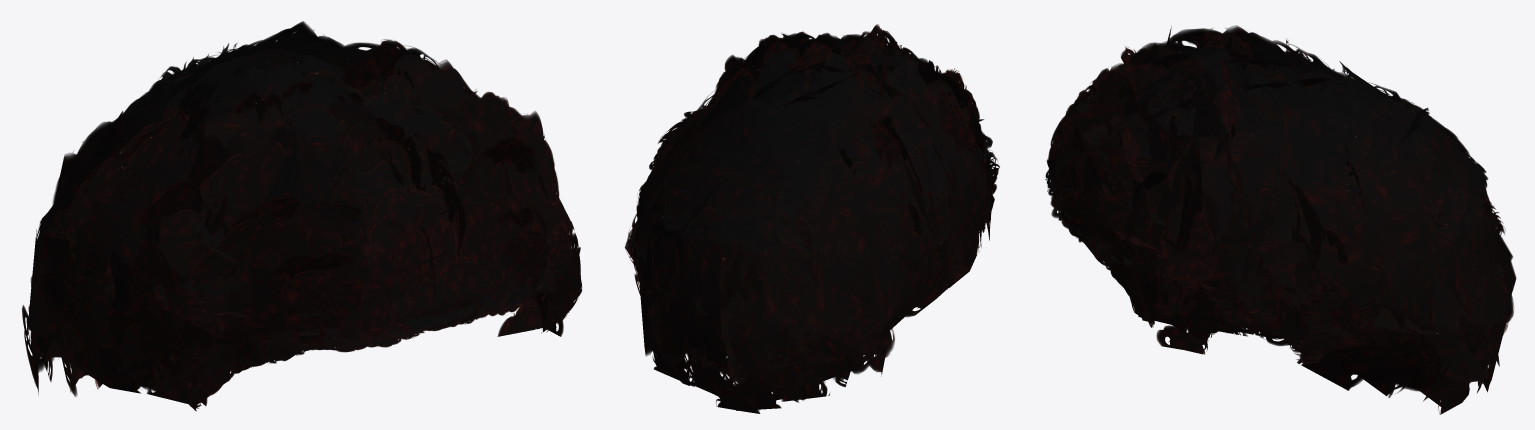
File: Round_Curly_TaperFade.glb
3 views of the same model, side by side, from view 1: azimuth 30°, elevation 25°; view 2: azimuth 150°, elevation 25°; view 3: azimuth 270°, elevation 25° (orthographic). The views are drawn at different scales.
Visible parts, largest first — view 1: SKEL_ROOT; view 2: SKEL_ROOT; view 3: SKEL_ROOT.
Boxes of the visible parts, box(x1,y1,x2,y2) form: SKEL_ROOT: box(22, 21, 582, 411); SKEL_ROOT: box(624, 24, 999, 413); SKEL_ROOT: box(1045, 25, 1516, 414).
Size of the model in its own units: 0.2019 by 0.1898 by 0.2377.
Materials: 1 (1 with a texture image).
